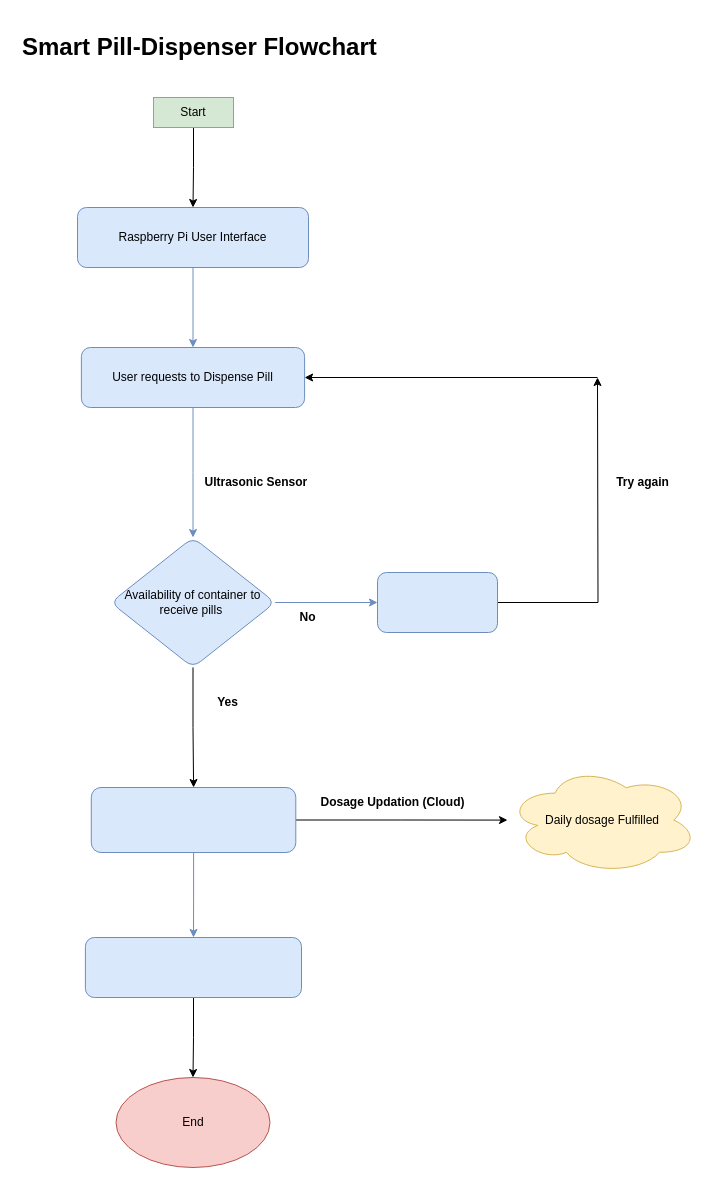
This 715x1185 diagram has some shape labels left out. The shapes that lost their labels are listed below. From the top down, each one's centre as x and y in pixels, then its label:
At (x=437, y=602): "Place Container".
At (x=193, y=819): "Activate SG-90 (x2) Motors to dispense the piils".
At (x=193, y=967): "Dispense pills into the container".
